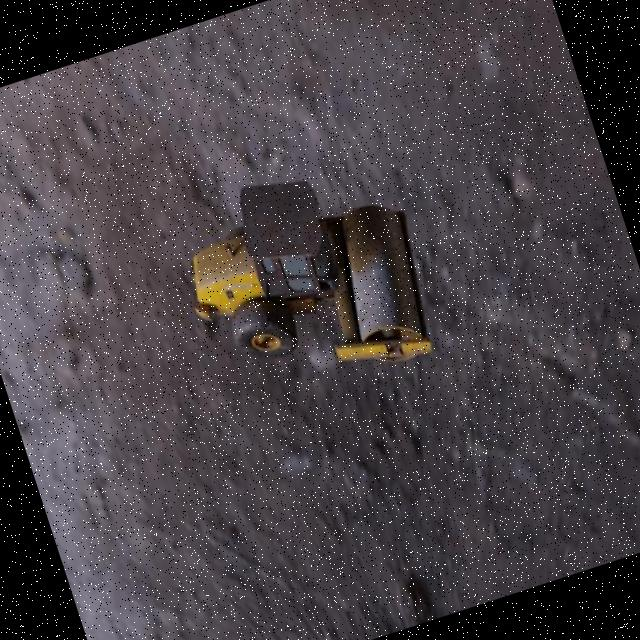Roller: (162, 140, 448, 418)
